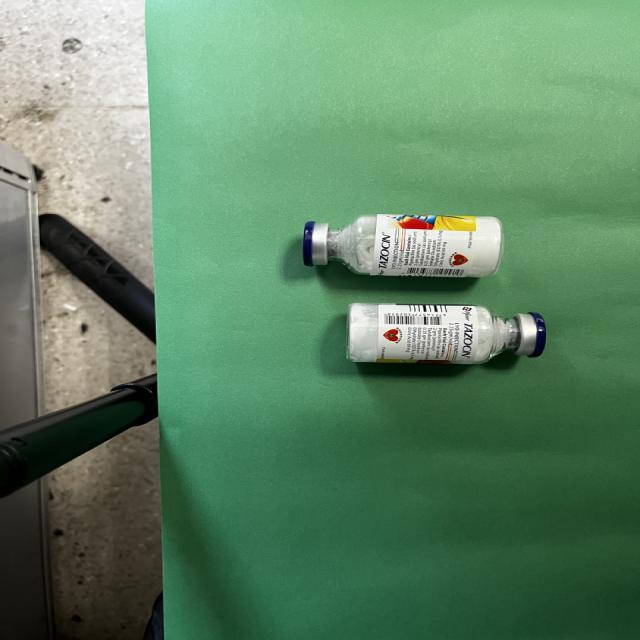Vials: (303, 214, 503, 278), (347, 303, 545, 364)
